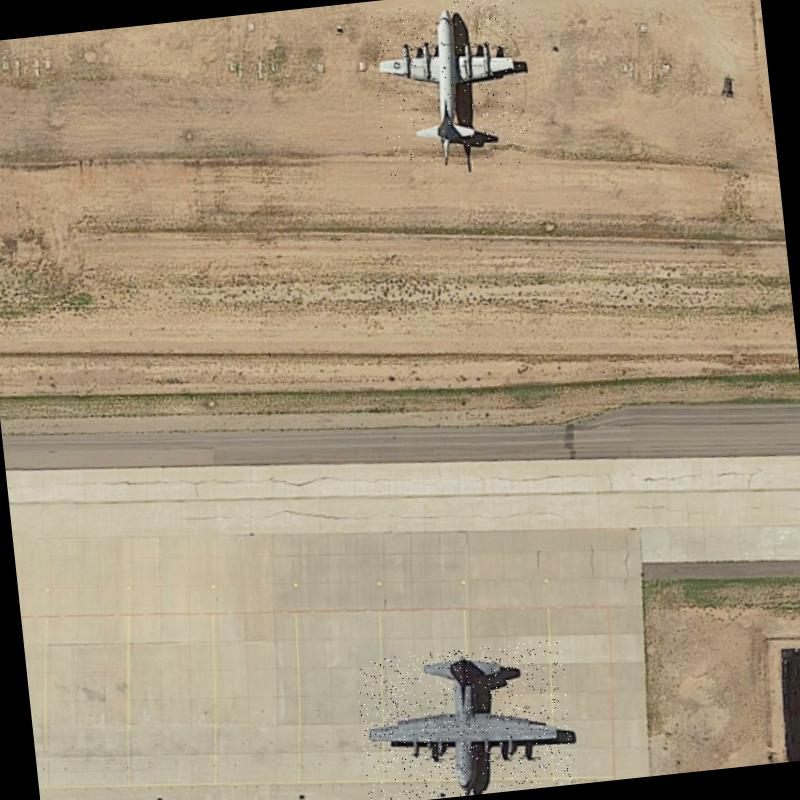A2: (354, 638, 576, 800)
A9: (368, 0, 535, 178)
